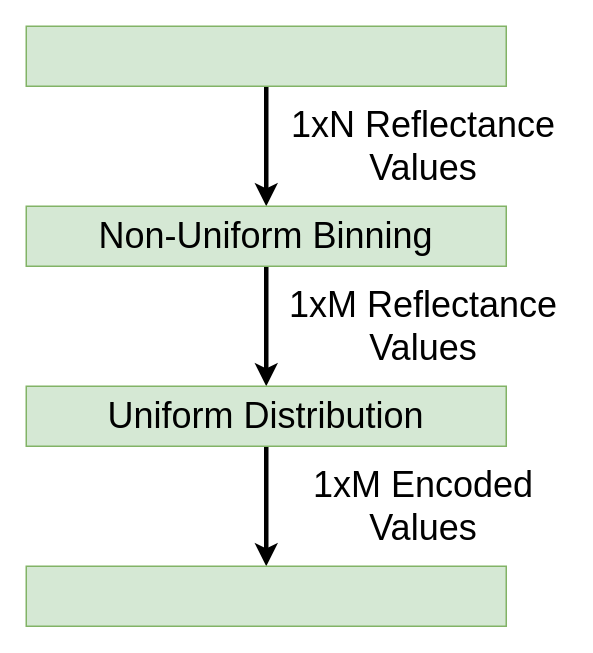
This 593x653 diagram has some shape labels left out. Each missing label, with the centre of its shape:
"Inference Model" goes at point 265,595.
"Reflectance Conversion" goes at point 265,55.
